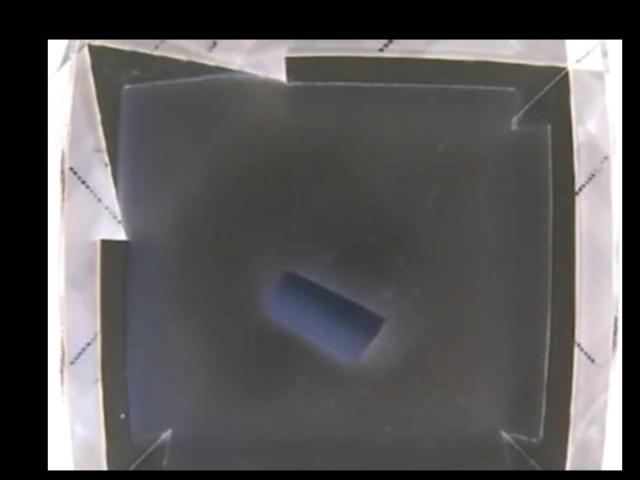Mooli: (267, 267, 387, 356)
